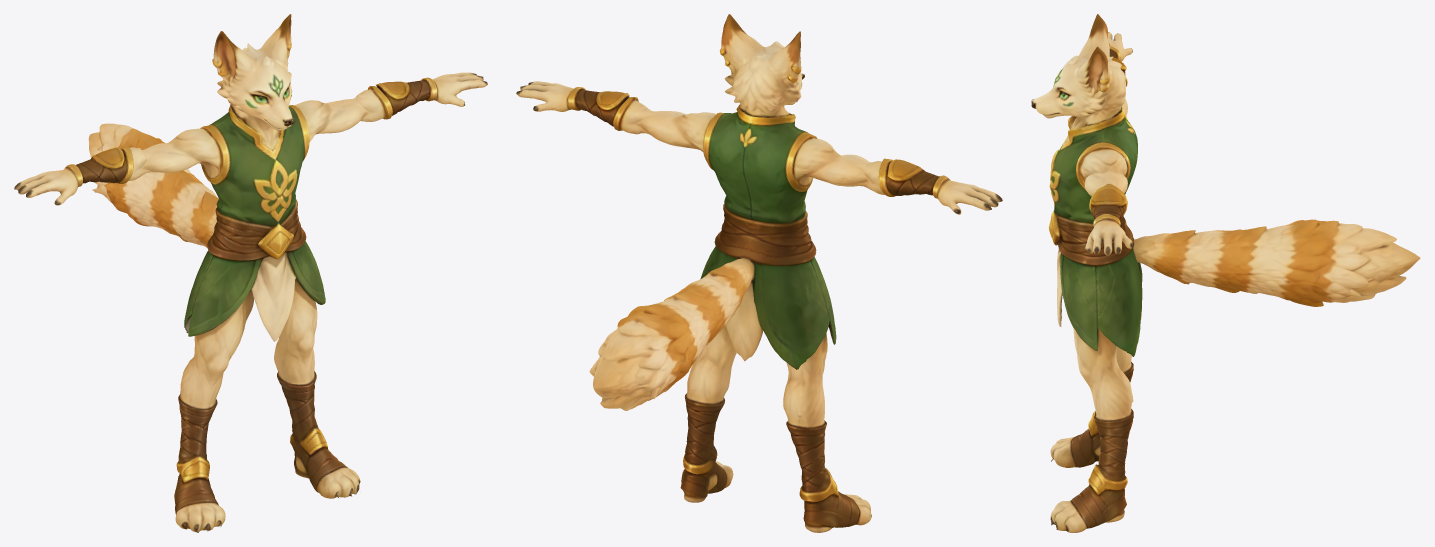
The model's file is lod_basic_shaded.fbx.
3 views of the same model, side by side, from view 1: azimuth 30°, elevation 25°; view 2: azimuth 150°, elevation 25°; view 3: azimuth 270°, elevation 25° (orthographic). The views are drawn at different scales.
Parts seen in each view (by area): view 1: model_LOD0; view 2: model_LOD0; view 3: model_LOD0.
Part boxes in pixels (x1,y1,x2,y2): model_LOD0: (14,14,487,532); model_LOD0: (516,14,1002,532); model_LOD0: (1031,14,1420,532).
Size of what is drawn, in the model's own units: 184 by 180 by 137.
